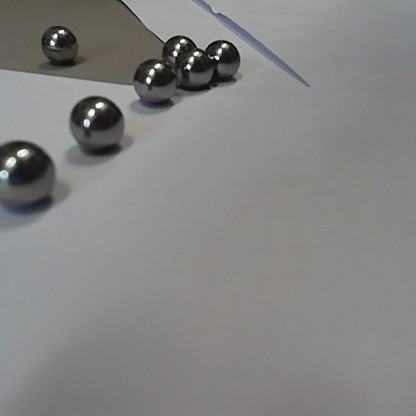ironball: (66, 94, 133, 161), (0, 138, 58, 209), (34, 23, 82, 72), (133, 56, 180, 105), (206, 35, 248, 83), (174, 46, 213, 92), (159, 30, 196, 61)
